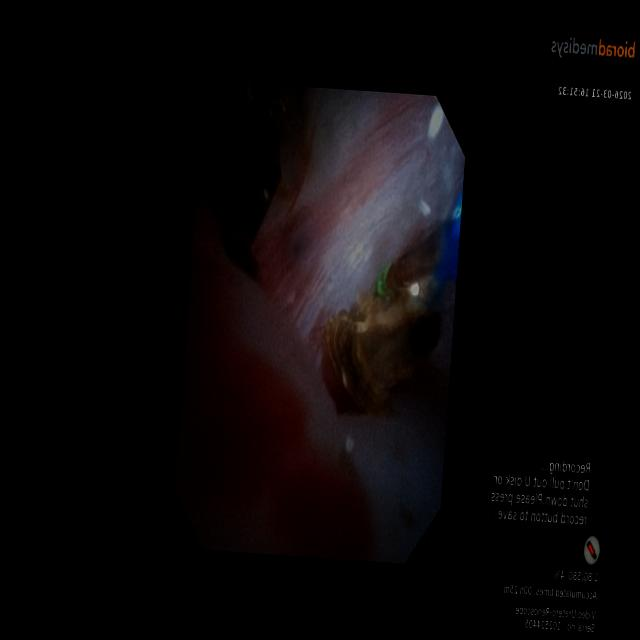laser-fibre: (385, 229, 444, 295)
stone-new: (197, 82, 288, 277), (325, 292, 441, 414)
